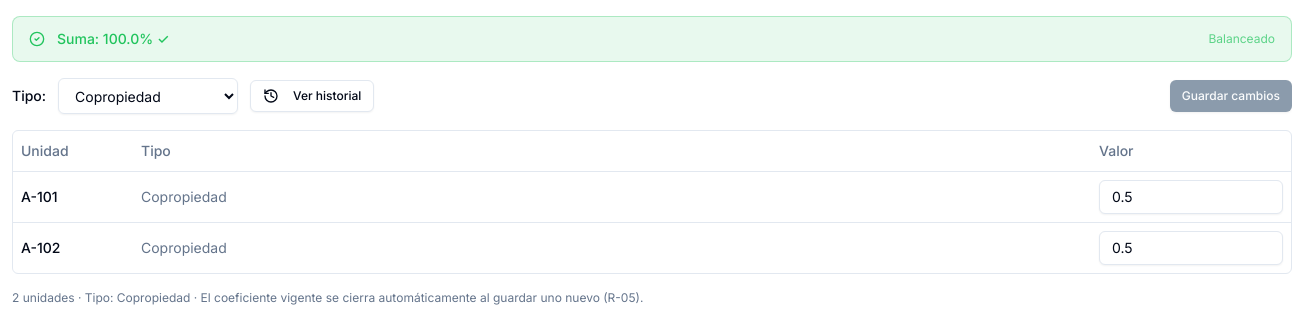
Scenario: CoeficientesTab (PROPIEDADES-B09) › el selector de tipo filtra la tabla
Expected: the field named "Coeficiente A-101 - Copropiedad" is shown, x1=1099 y1=180 x2=1283 y2=214
Select "Parqueadero" in the dropdown labelled "Tipo:" at x=148, y=96, box x1=58 y1=78 x2=238 y2=114
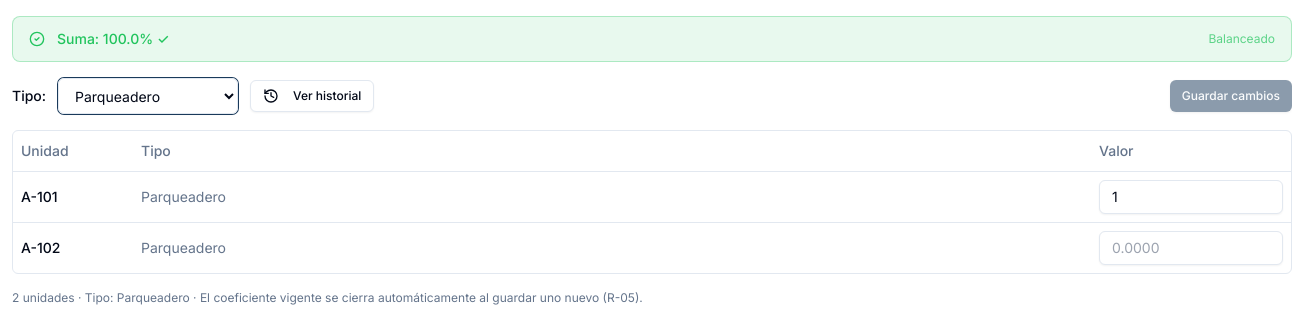
Expected: the field named "Coeficiente A-101 - Parqueadero" holds "1", x1=1099 y1=180 x2=1283 y2=214
Expected: the field named "Coeficiente A-102 - Parqueadero" is empty, x1=1099 y1=230 x2=1283 y2=264
